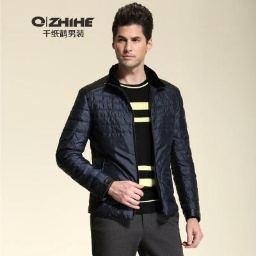face: (110, 2, 156, 70)
